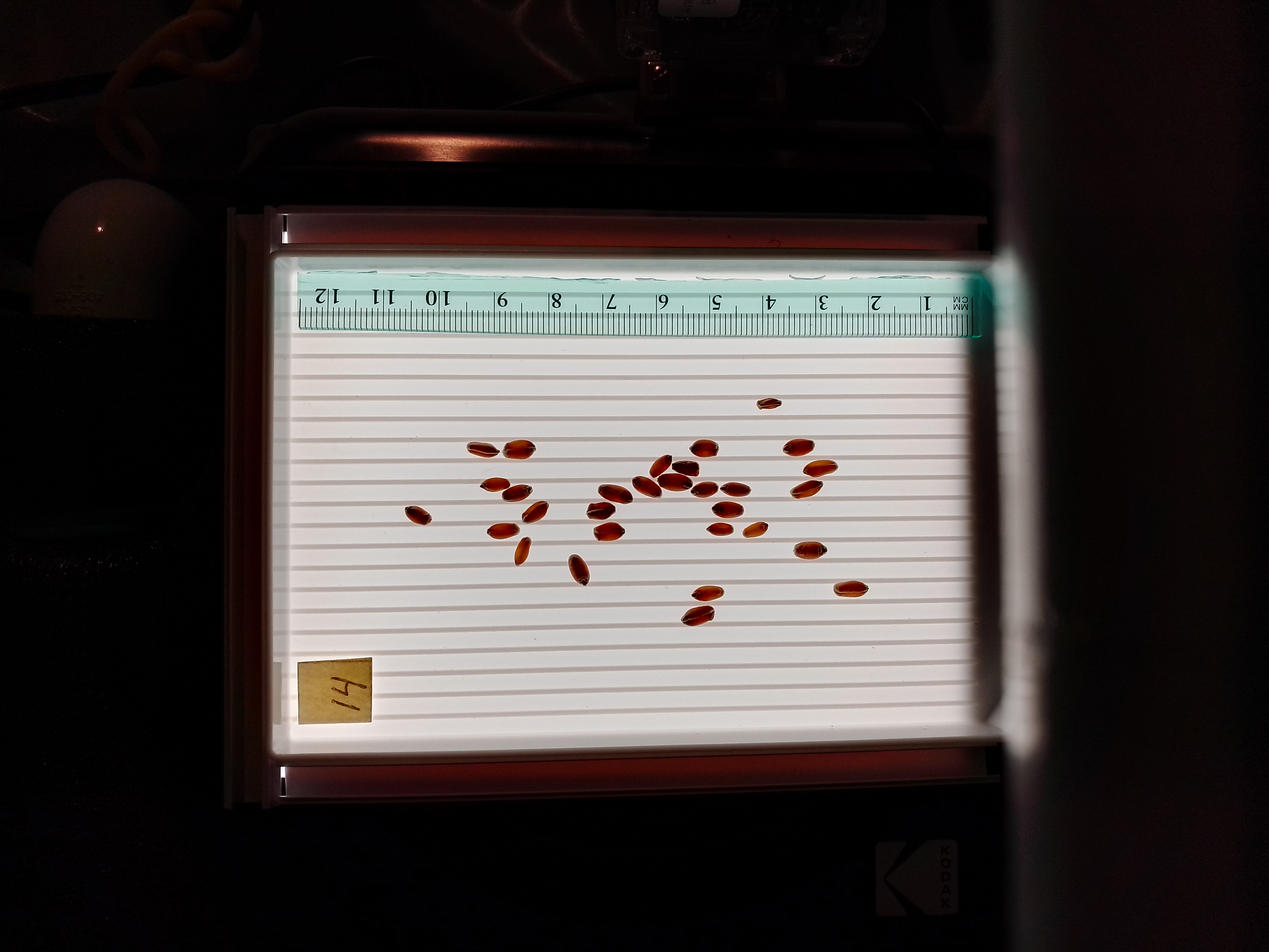seed mask: (569, 556, 591, 586), (682, 606, 714, 626), (599, 485, 632, 504), (834, 580, 868, 598), (505, 440, 535, 460), (804, 460, 837, 478), (794, 542, 827, 559), (595, 523, 624, 542), (634, 477, 661, 497), (792, 481, 822, 499), (659, 475, 692, 491), (488, 523, 519, 540), (523, 502, 548, 523), (713, 502, 743, 519), (503, 485, 532, 502), (784, 439, 813, 456), (693, 586, 723, 602), (406, 506, 431, 525), (692, 440, 718, 458), (467, 443, 498, 458), (650, 455, 672, 476), (587, 503, 614, 520), (482, 477, 510, 492), (515, 538, 530, 565), (722, 483, 750, 497), (674, 461, 700, 476), (743, 522, 767, 538), (708, 523, 733, 536), (692, 484, 715, 497), (757, 398, 781, 410)
